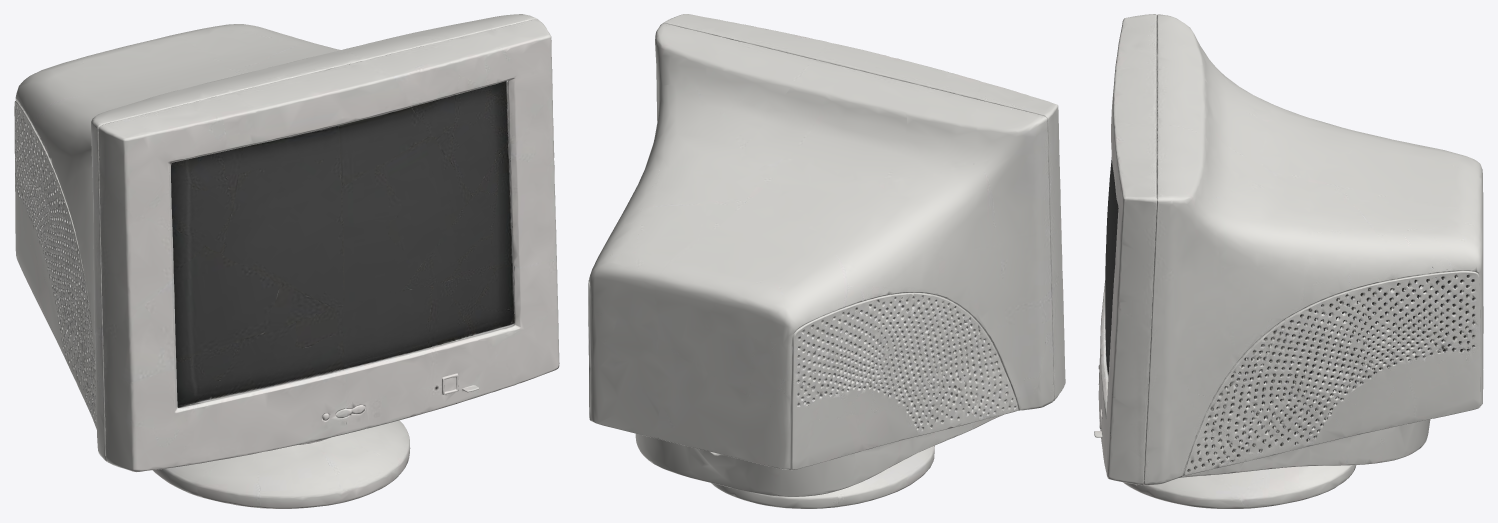
File: crt_pc.glb
3 views of the same model, side by side, from view 1: azimuth 30°, elevation 25°; view 2: azimuth 150°, elevation 25°; view 3: azimuth 270°, elevation 25° (orthographic). The views are drawn at different scales.
Size of the model in its own units: 1.9 by 1.7 by 1.68.
Materials: 1 (1 with a texture image).
